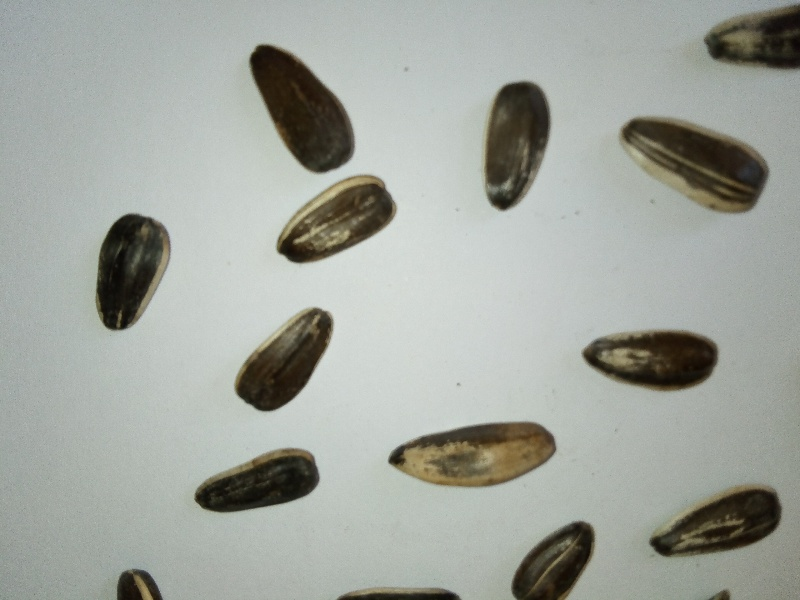girasol: (607, 109, 776, 226), (241, 40, 360, 176), (385, 413, 568, 495), (272, 173, 409, 271), (230, 303, 343, 419), (647, 474, 788, 564), (579, 317, 725, 401), (474, 74, 553, 226), (92, 209, 177, 342), (187, 444, 326, 522)
